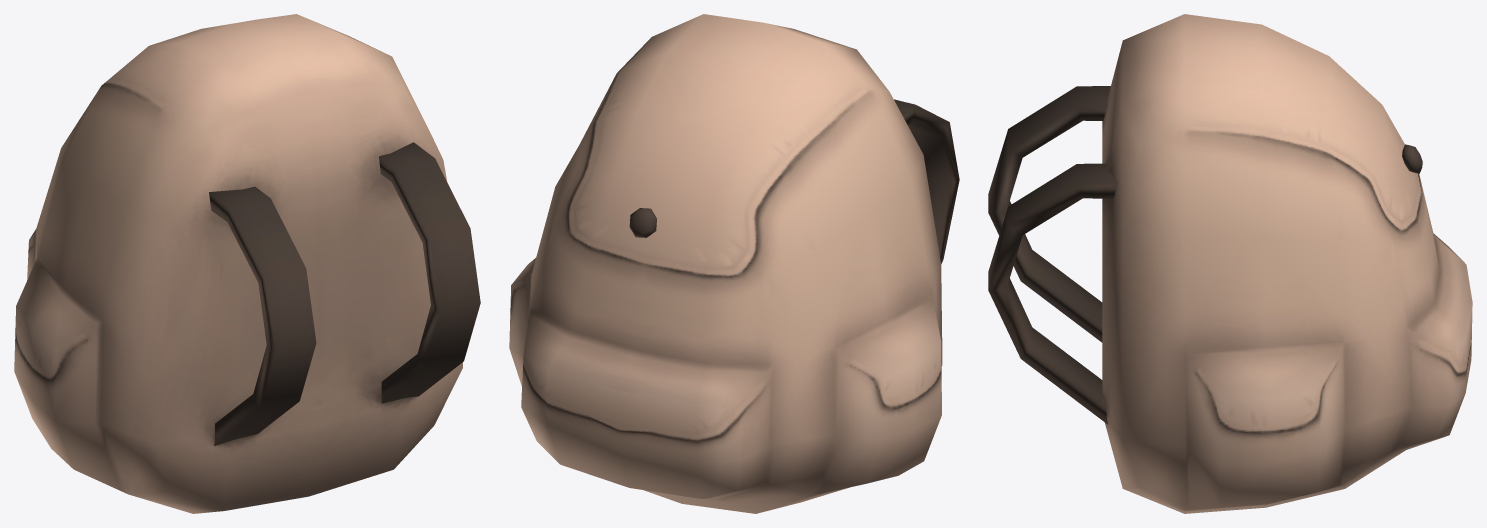
File: backpack.fbx
3 views of the same model, side by side, from view 1: azimuth 30°, elevation 25°; view 2: azimuth 150°, elevation 25°; view 3: azimuth 270°, elevation 25° (orthographic). The views are drawn at different scales.
Visible parts, largest first — view 1: backpack; view 2: backpack; view 3: backpack.
Part boxes in pixels (box(x1,y1,x2,y2)): backpack: box(14, 14, 480, 513); backpack: box(509, 14, 959, 513); backpack: box(988, 14, 1472, 513).
Bounding box in the file's own units: 1.38 × 1.49 × 1.47.
